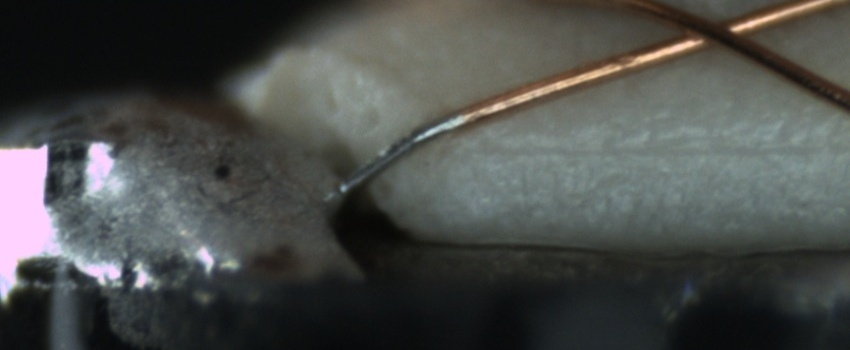CL: (656, 5, 775, 58)
DL: (465, 123, 849, 177)
TS: (338, 114, 467, 197)
